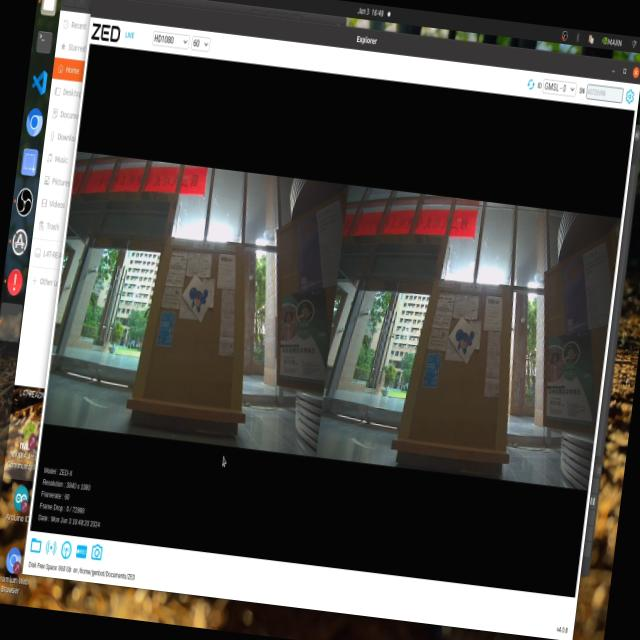blue: (449, 322, 484, 364), (190, 277, 213, 317)
